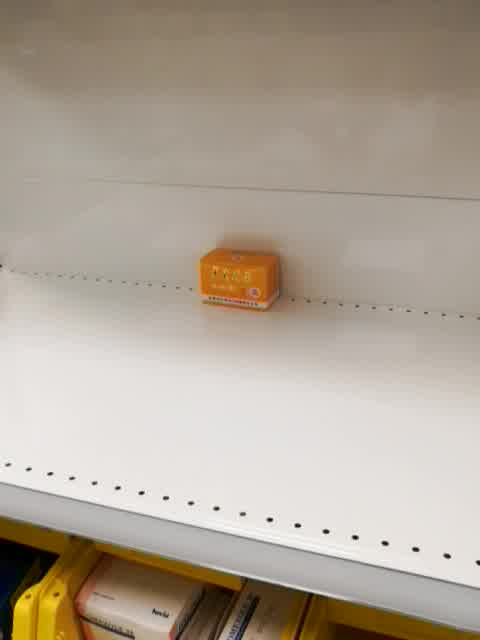jasminetea: (199, 248, 280, 313)
